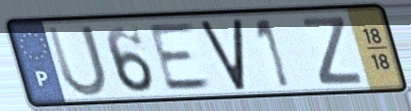1: (253, 16, 293, 89)
6: (103, 23, 157, 95)
E: (145, 20, 216, 94)
U: (44, 22, 110, 99)
V: (197, 16, 248, 94)
Z: (299, 14, 366, 87)
